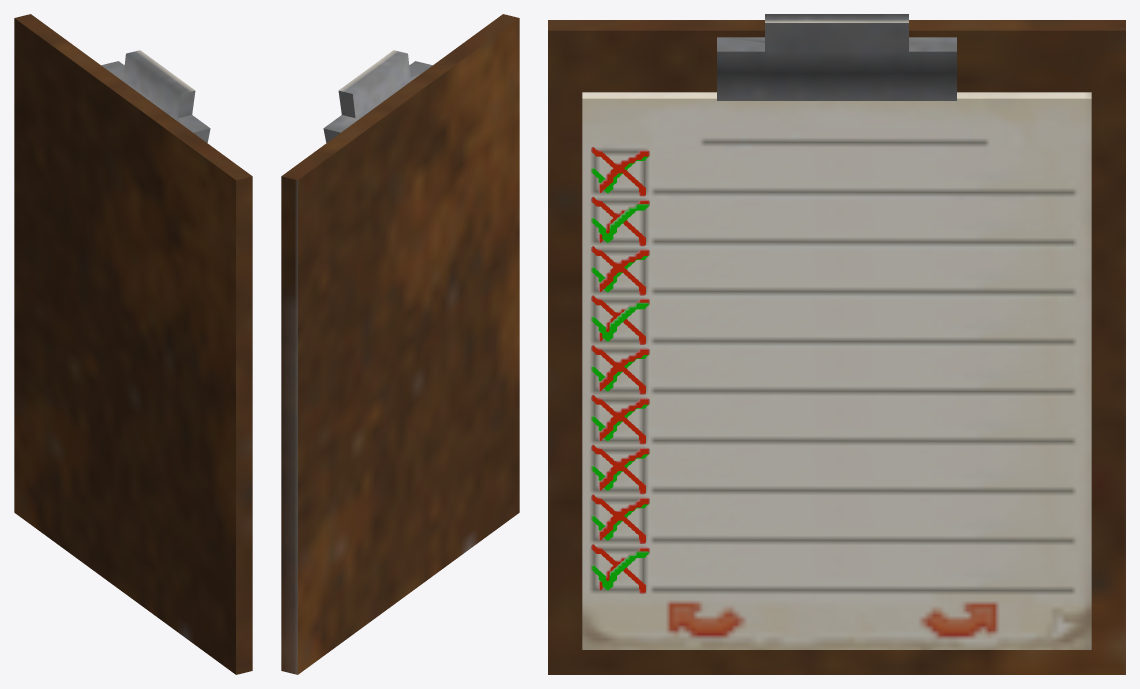
The model's file is clipboard.obj.
3 views of the same model, side by side, from view 1: azimuth 30°, elevation 25°; view 2: azimuth 150°, elevation 25°; view 3: azimuth 270°, elevation 25° (orthographic). The views are drawn at different scales.
Parts seen in each view (by area): view 1: Clipboard; view 2: Clipboard; view 3: Clipboard, box6x, box8x, box1x, box3x, box7x, box5x.
Boxes of the visible parts, x1,y1,x2,y2 form: Clipboard: (14,14,252,674); Clipboard: (281,14,519,674); Clipboard: (548,14,1125,674); box6x: (591,395,649,444); box8x: (591,494,649,543); box1x: (591,147,649,196); box3x: (591,246,649,295); box7x: (591,444,649,494); box5x: (591,345,649,394).
Size of the model in its own units: 0.0772 by 0.887 by 0.695.
